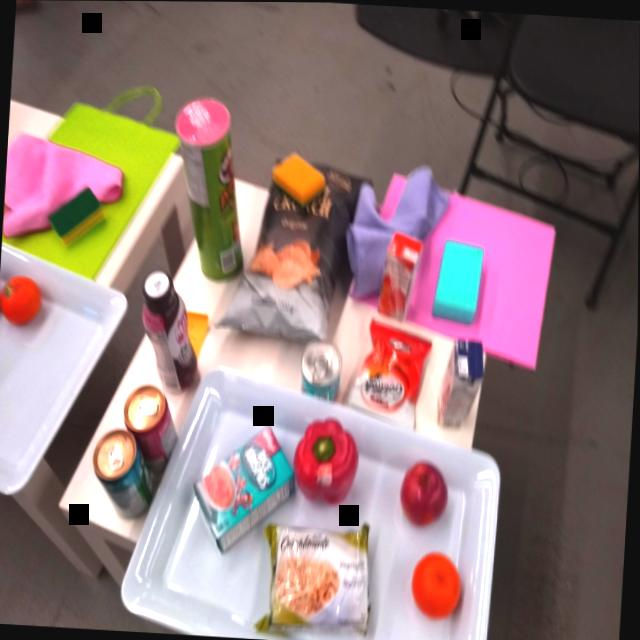apple: (396, 456, 453, 530)
cereal: (188, 420, 300, 560)
chocolate_drink: (133, 271, 208, 398)
coke: (119, 383, 186, 479)
crackers: (343, 315, 438, 429)
grape_juice: (435, 332, 491, 431)
noodles: (255, 514, 380, 640)
orange: (376, 232, 425, 323), (410, 551, 467, 621), (0, 274, 48, 329)
paprika: (286, 414, 370, 507)
potato_chips: (210, 151, 377, 352)
pringles: (166, 91, 256, 284)
sausages: (299, 337, 348, 406)
scrubby: (45, 181, 110, 252), (270, 151, 333, 213)
sponge_opl: (432, 236, 488, 324)
sprite: (87, 428, 159, 524)
